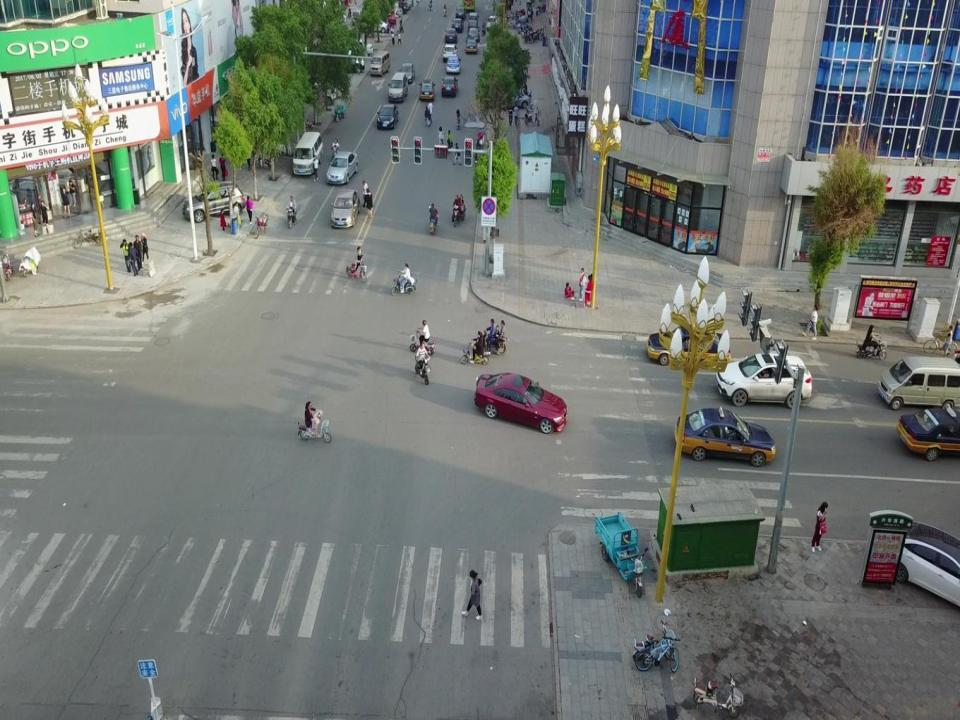bus: (462, 0, 476, 12)
car: (888, 517, 960, 610), (674, 406, 778, 467), (474, 371, 568, 435), (713, 351, 813, 407), (645, 324, 732, 369), (896, 404, 960, 462), (181, 181, 245, 223), (330, 188, 360, 228), (326, 150, 359, 186), (495, 89, 531, 109), (376, 102, 400, 130), (305, 85, 337, 105), (336, 56, 365, 74), (418, 78, 436, 102), (397, 62, 416, 84), (441, 75, 459, 98), (362, 19, 388, 33), (372, 13, 396, 27), (446, 55, 462, 75), (443, 42, 458, 62), (381, 4, 403, 17), (464, 36, 478, 54), (387, 2, 409, 13), (444, 27, 457, 44), (486, 15, 499, 32), (451, 17, 464, 32), (467, 28, 480, 42), (454, 7, 466, 18)
van: (875, 355, 960, 412), (292, 131, 324, 177), (388, 72, 408, 102), (369, 51, 391, 77), (351, 7, 365, 26), (468, 12, 479, 29)
